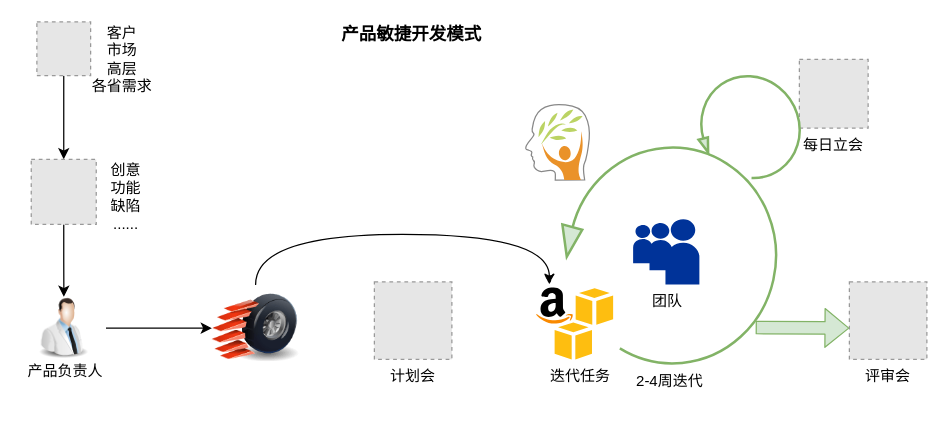
Image size: 949x431. Some labels were removed from this diagram. Grey dashed boxes stand in for pictures. Here are the shapes that lost their labels. From the top down, the centre of each, then its label:
At pixel 557 141: "产品功能细化".
At pixel 255 327: "产品功能列表".
